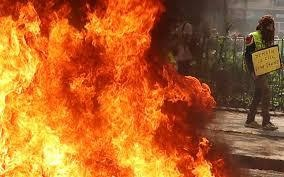fire: (0, 9, 221, 176)
